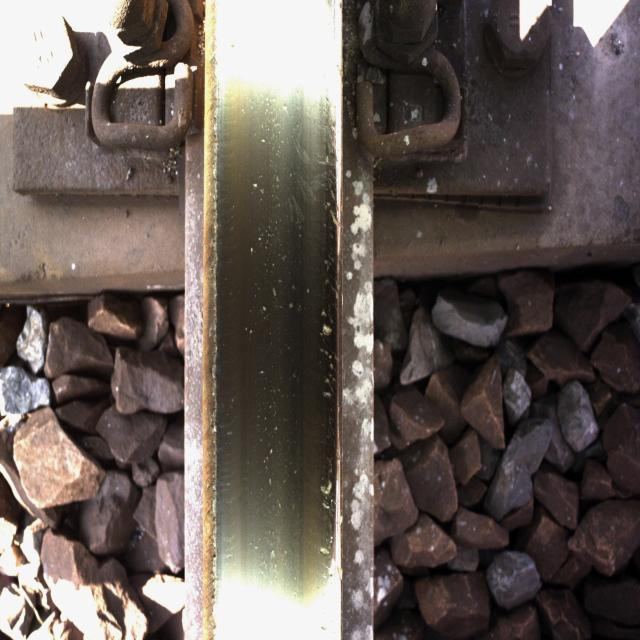scar: (236, 91, 339, 606)
